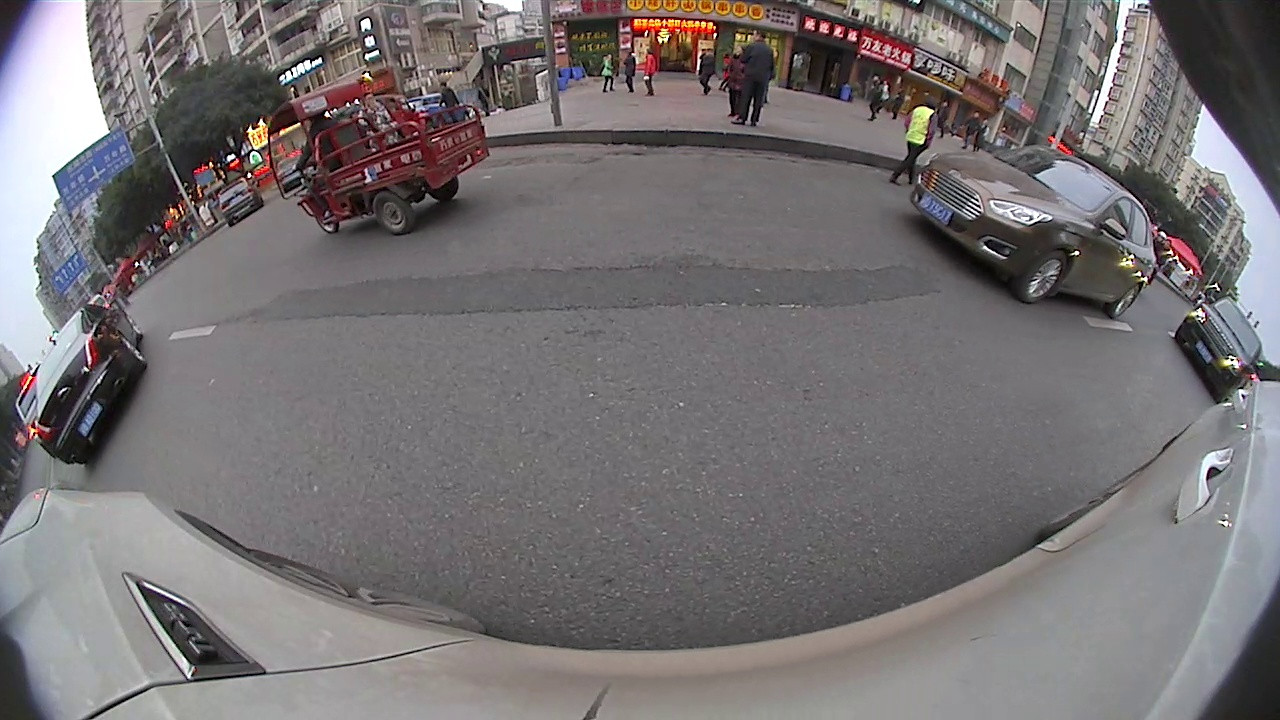car: (912, 145, 1155, 317), (27, 299, 152, 469), (1175, 297, 1264, 408), (211, 178, 266, 226)
front: (1011, 250, 1070, 305), (313, 199, 342, 237)
person: (899, 91, 941, 188), (744, 24, 776, 130)
rear: (370, 188, 412, 239), (1109, 282, 1142, 321)
rider: (265, 78, 491, 237)
